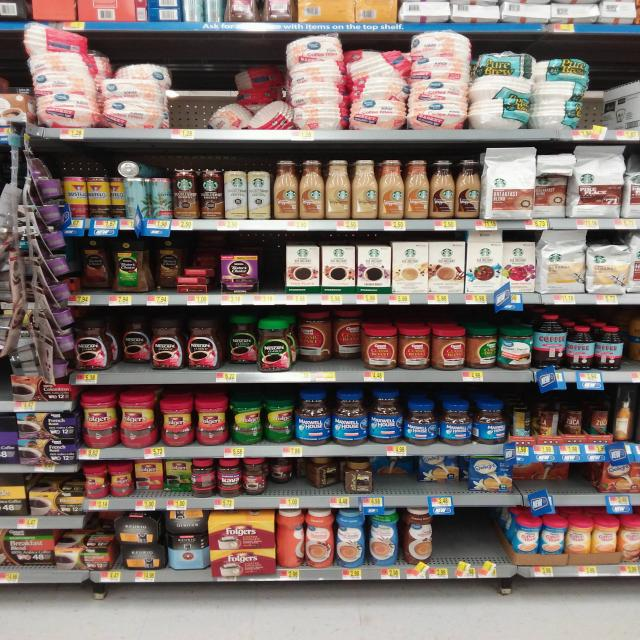100- O.O.S: (171, 68, 209, 139), (479, 509, 503, 578), (260, 238, 283, 304), (434, 515, 456, 579), (457, 509, 477, 578), (587, 85, 603, 139), (570, 463, 590, 506)
